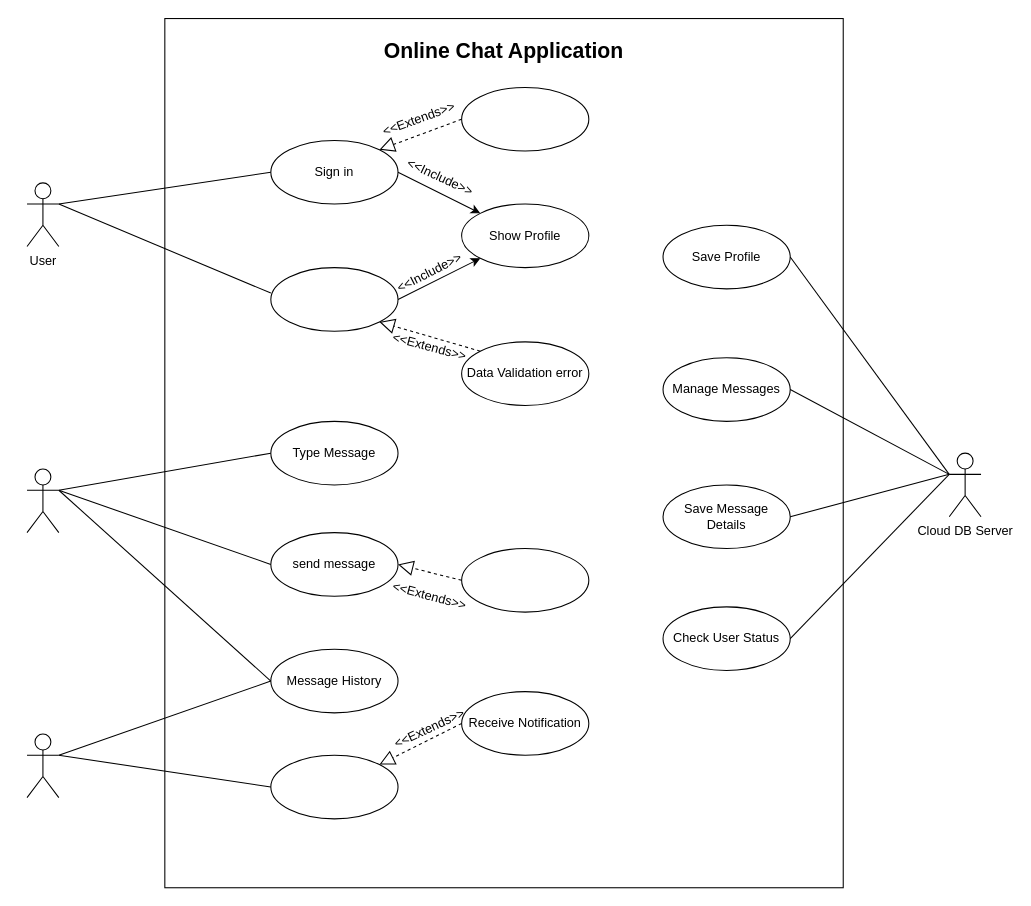
The diagram is 1031 pixels wide and 906 high, and some of its shapes have lost their labels. Here are the shapes that lost their labels. From the top down, the centre of each, then its label:
the point at 525,118: Error message
the point at 334,299: Register
the point at 42,500: Sender
the point at 525,579: Genarate Notification
the point at 42,765: Receiver
the point at 334,786: Receive Message
